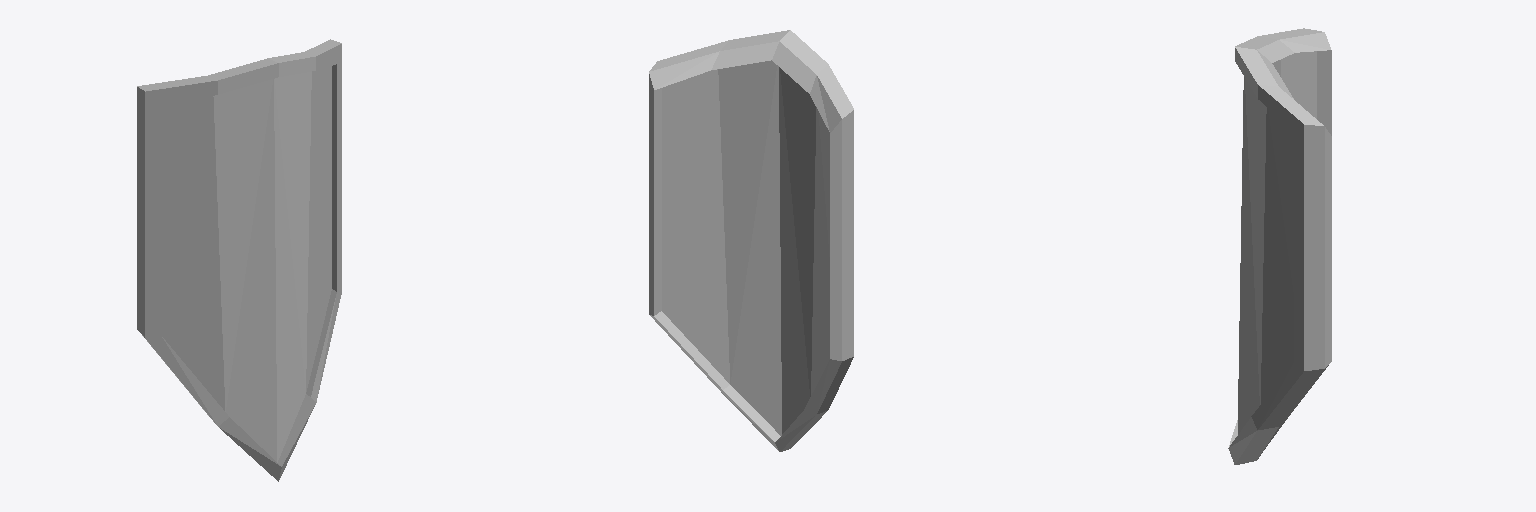
File: Shield.obj
The picture shows the model from 3 angles: view 1: azimuth 30°, elevation 25°; view 2: azimuth 150°, elevation 25°; view 3: azimuth 270°, elevation 25°; orthographic projection.
Parts seen in each view (by area): view 1: default; view 2: default; view 3: default.
Boxes of the visible parts, x1,y1,x2,y2 form: default: [137, 39, 341, 481]; default: [649, 30, 853, 451]; default: [1228, 28, 1331, 464].
Size of the model in its own units: 1.01 by 2.06 by 0.46.